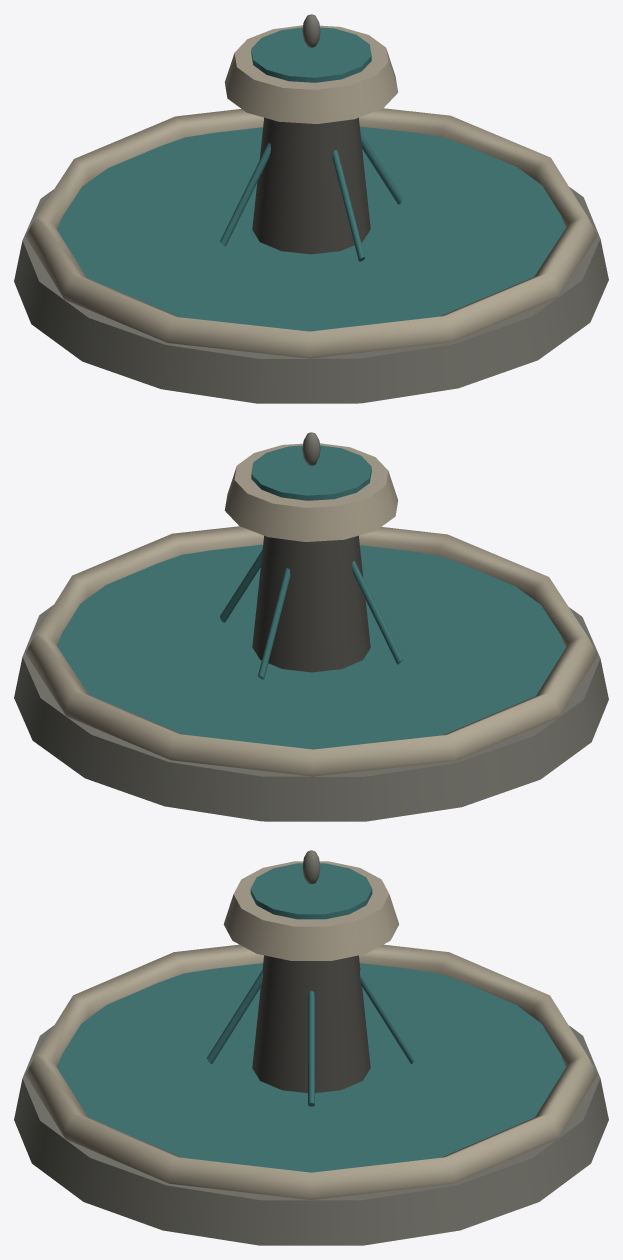
File: fountain.glb
3 views of the same model, one above another, from view 1: azimuth 30°, elevation 25°; view 2: azimuth 150°, elevation 25°; view 3: azimuth 270°, elevation 25° (orthographic).
Visible parts, largest first — view 1: fountain; view 2: fountain; view 3: fountain.
Part boxes in pixels (box(x1,y1,x2,y2)): fountain: box(14, 14, 608, 403); fountain: box(14, 432, 608, 821); fountain: box(14, 850, 608, 1245).
Bounding box in the file's own units: 4.4 × 2.2 × 4.4.
1 material, 1 textured.
